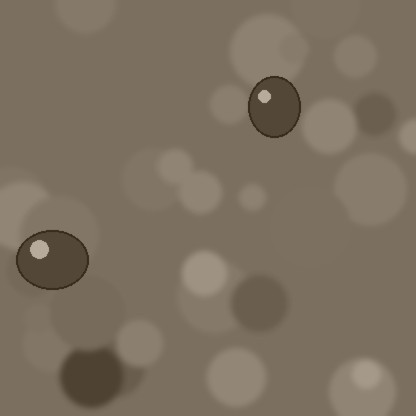gota: (16, 232, 88, 294), (248, 78, 300, 142)
